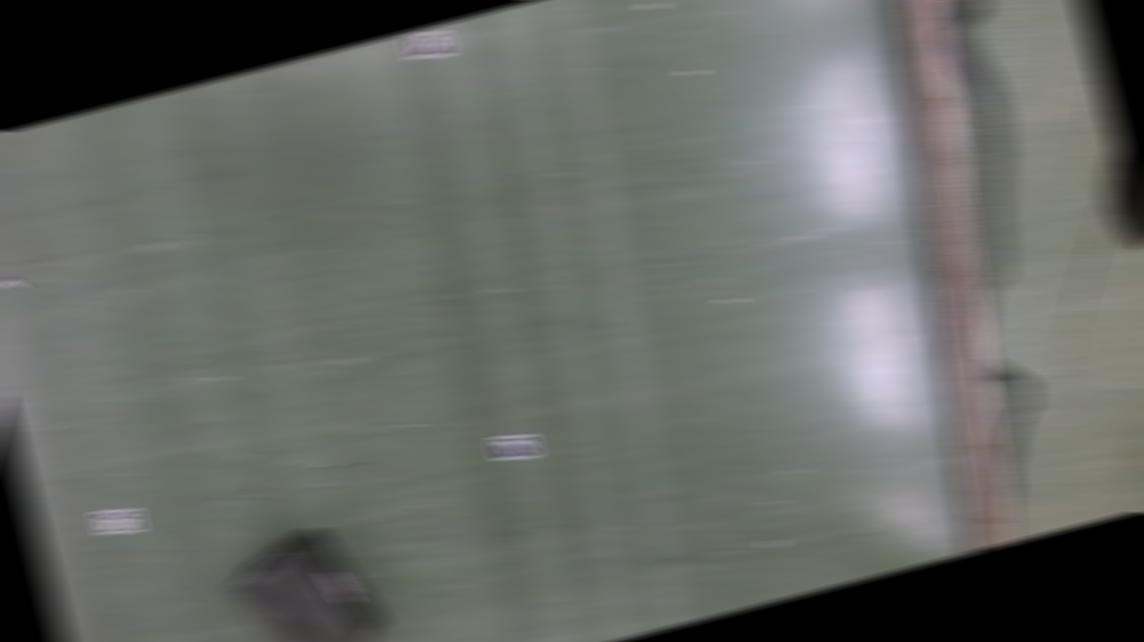probes: (0, 257, 25, 298)
rako: (217, 515, 396, 642)
